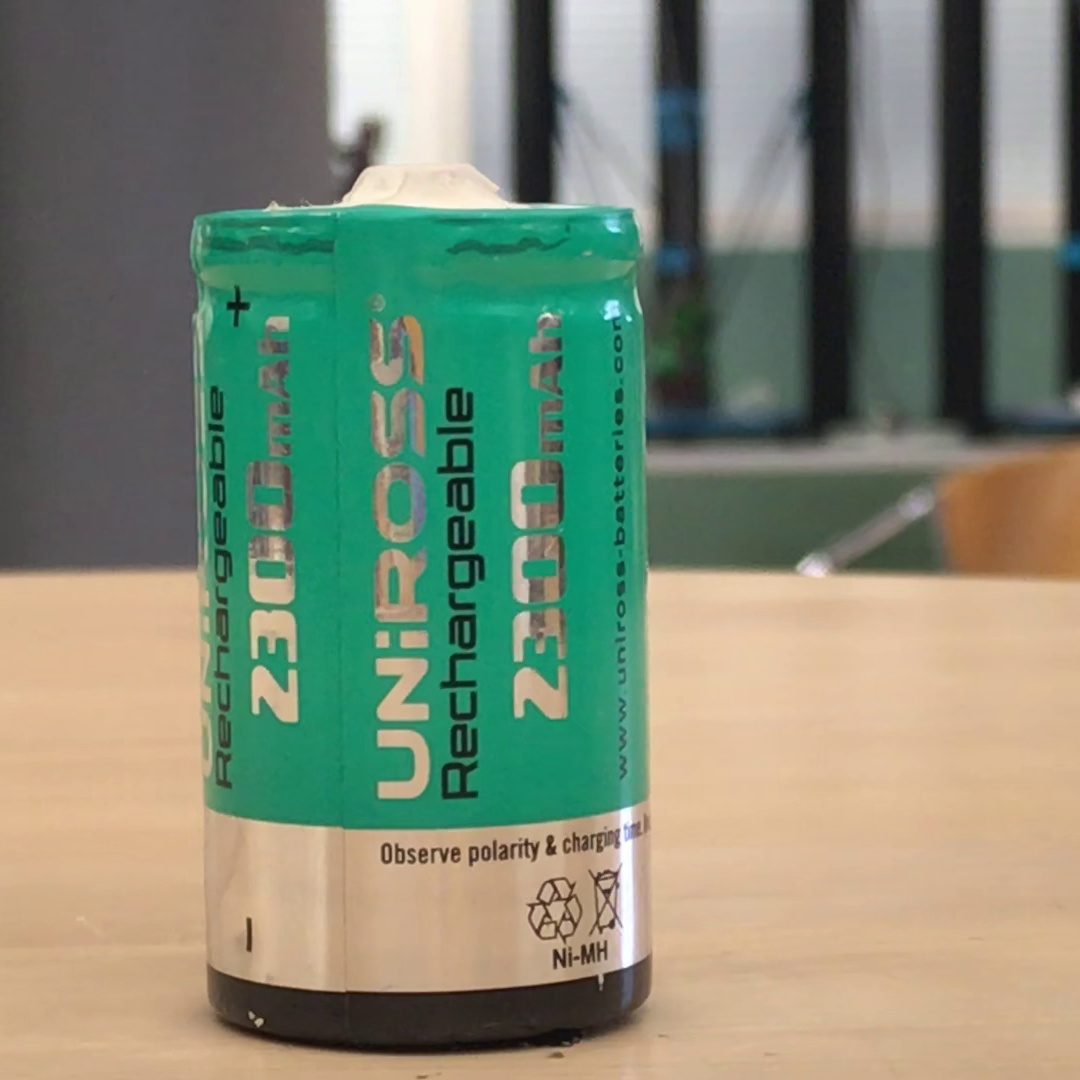keyword: (543, 930, 617, 979)
